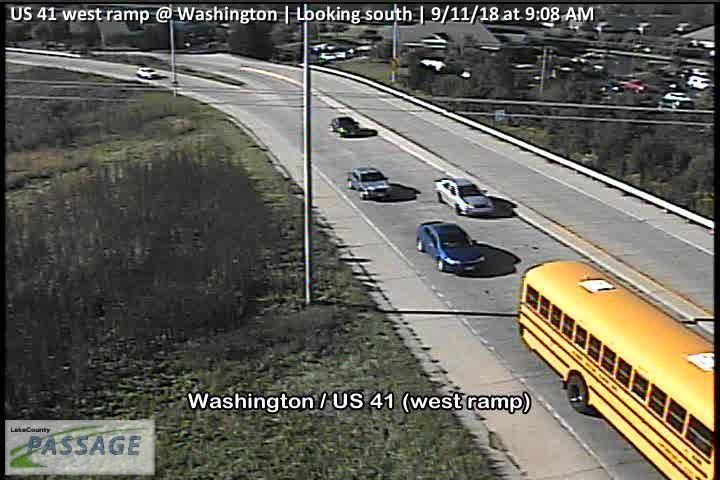Bus: (517, 259, 720, 480)
SUV: (346, 166, 392, 202), (135, 67, 163, 82), (687, 78, 712, 90)
Sedan: (416, 220, 488, 275), (433, 177, 496, 216), (329, 116, 361, 139), (658, 91, 694, 111), (621, 78, 648, 93)
